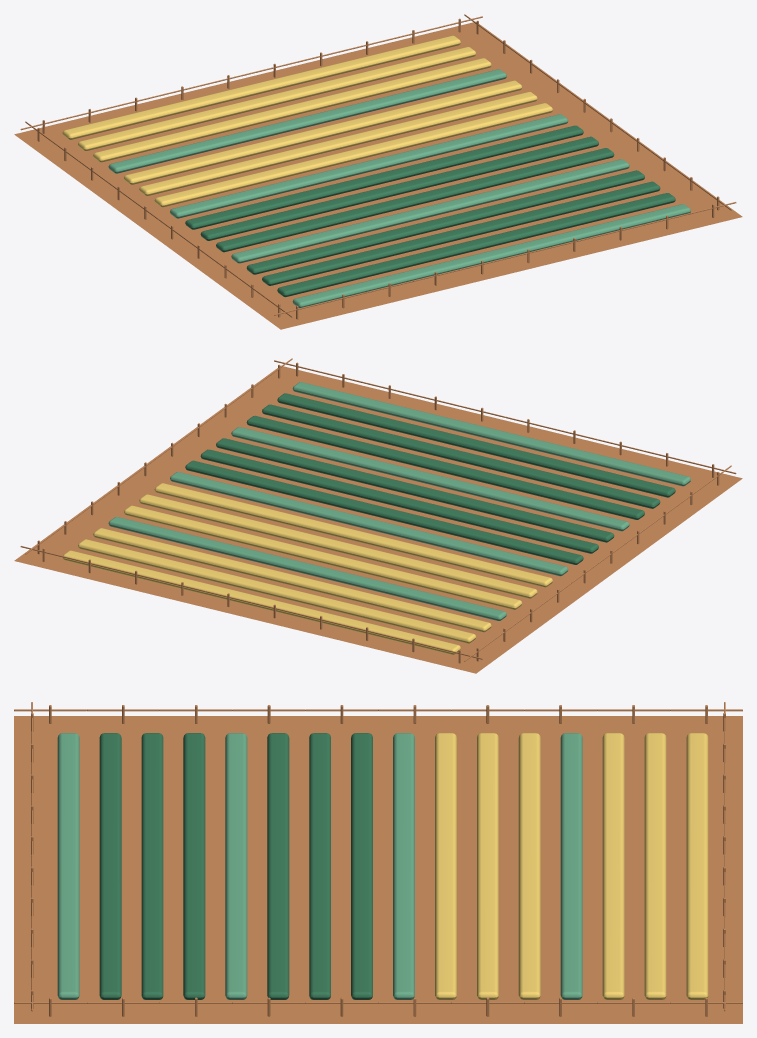
Rendered from land_farm.glb.
The picture shows the model from 3 angles, top to bottom: view 1: azimuth 30°, elevation 25°; view 2: azimuth 150°, elevation 25°; view 3: azimuth 270°, elevation 25°; orthographic projection. The views are drawn at different scales.
Visible parts, largest first — view 1: land_farm; view 2: land_farm; view 3: land_farm.
Part boxes in pixels (<box>): land_farm: <box>14,14,742,329</box>; land_farm: <box>14,358,742,673</box>; land_farm: <box>14,702,742,1023</box>.
Bounding box in the file's own units: 40 × 1.15 × 40.
1 material, 1 textured.
